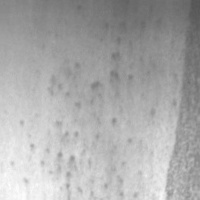pitted_surface: (20, 35, 150, 197), (167, 4, 200, 200)
